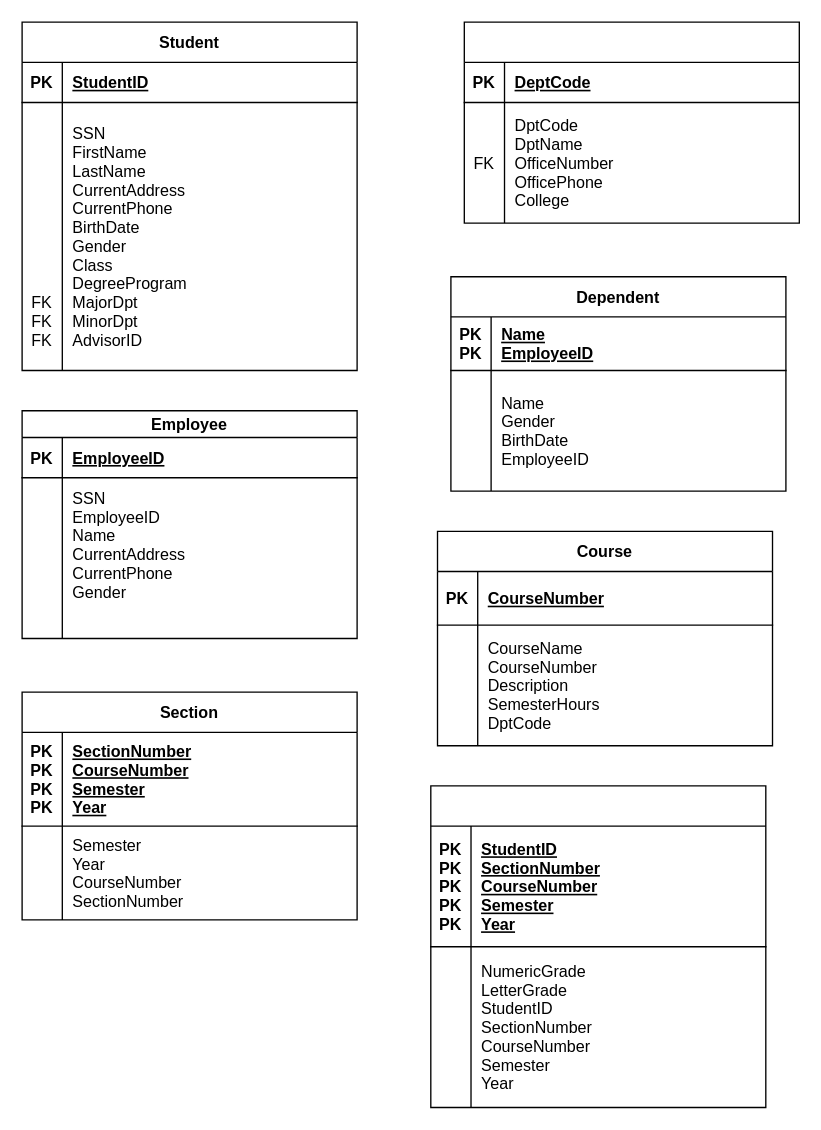
Some shapes in this 821 by 1130 pixel diagram are drawn without their labels. The shapes that lost their labels are listed below. From the top down, each one's box as (x1, y1, x2, y2) in pixels, then its label:
(463, 21, 799, 223): Department
(429, 785, 766, 1108): Grade_Report
